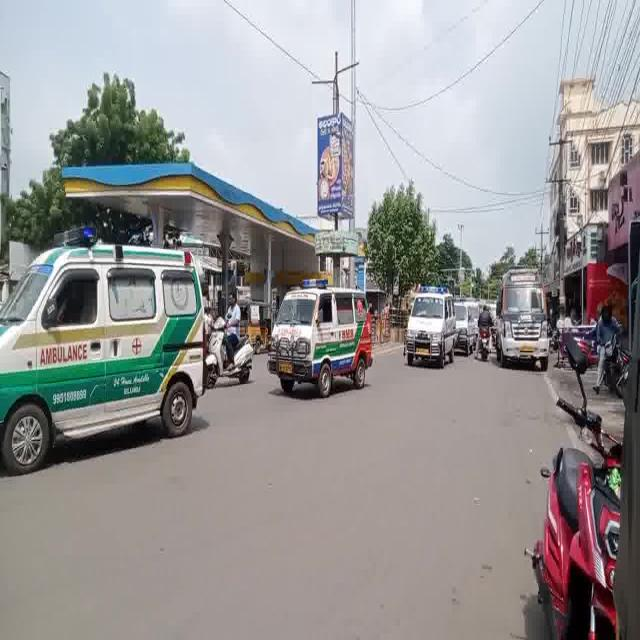ambulance: (2, 227, 203, 467), (268, 278, 384, 410), (397, 280, 459, 374), (501, 266, 546, 376), (455, 268, 473, 368)
